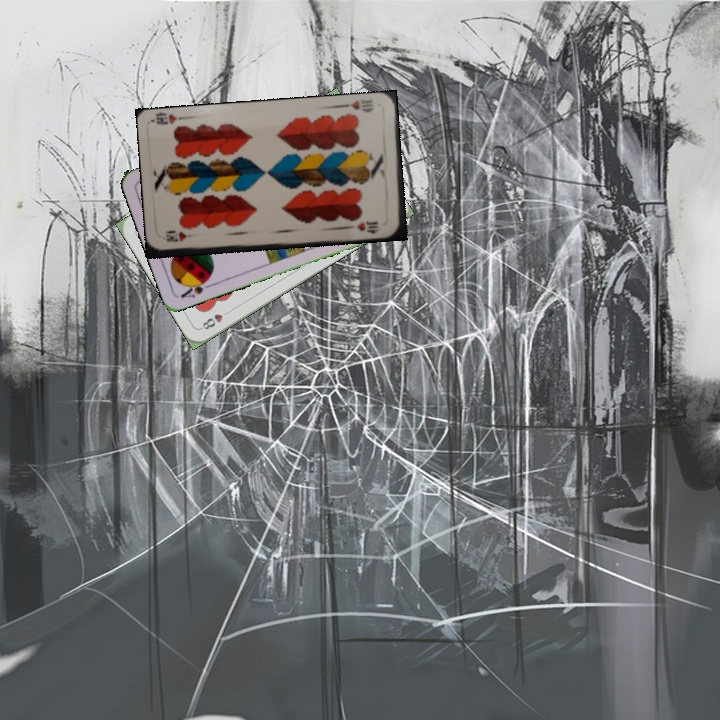H10: (340, 96, 376, 115), (162, 230, 201, 245)
H8: (197, 305, 234, 332)
SA: (176, 274, 216, 300)
